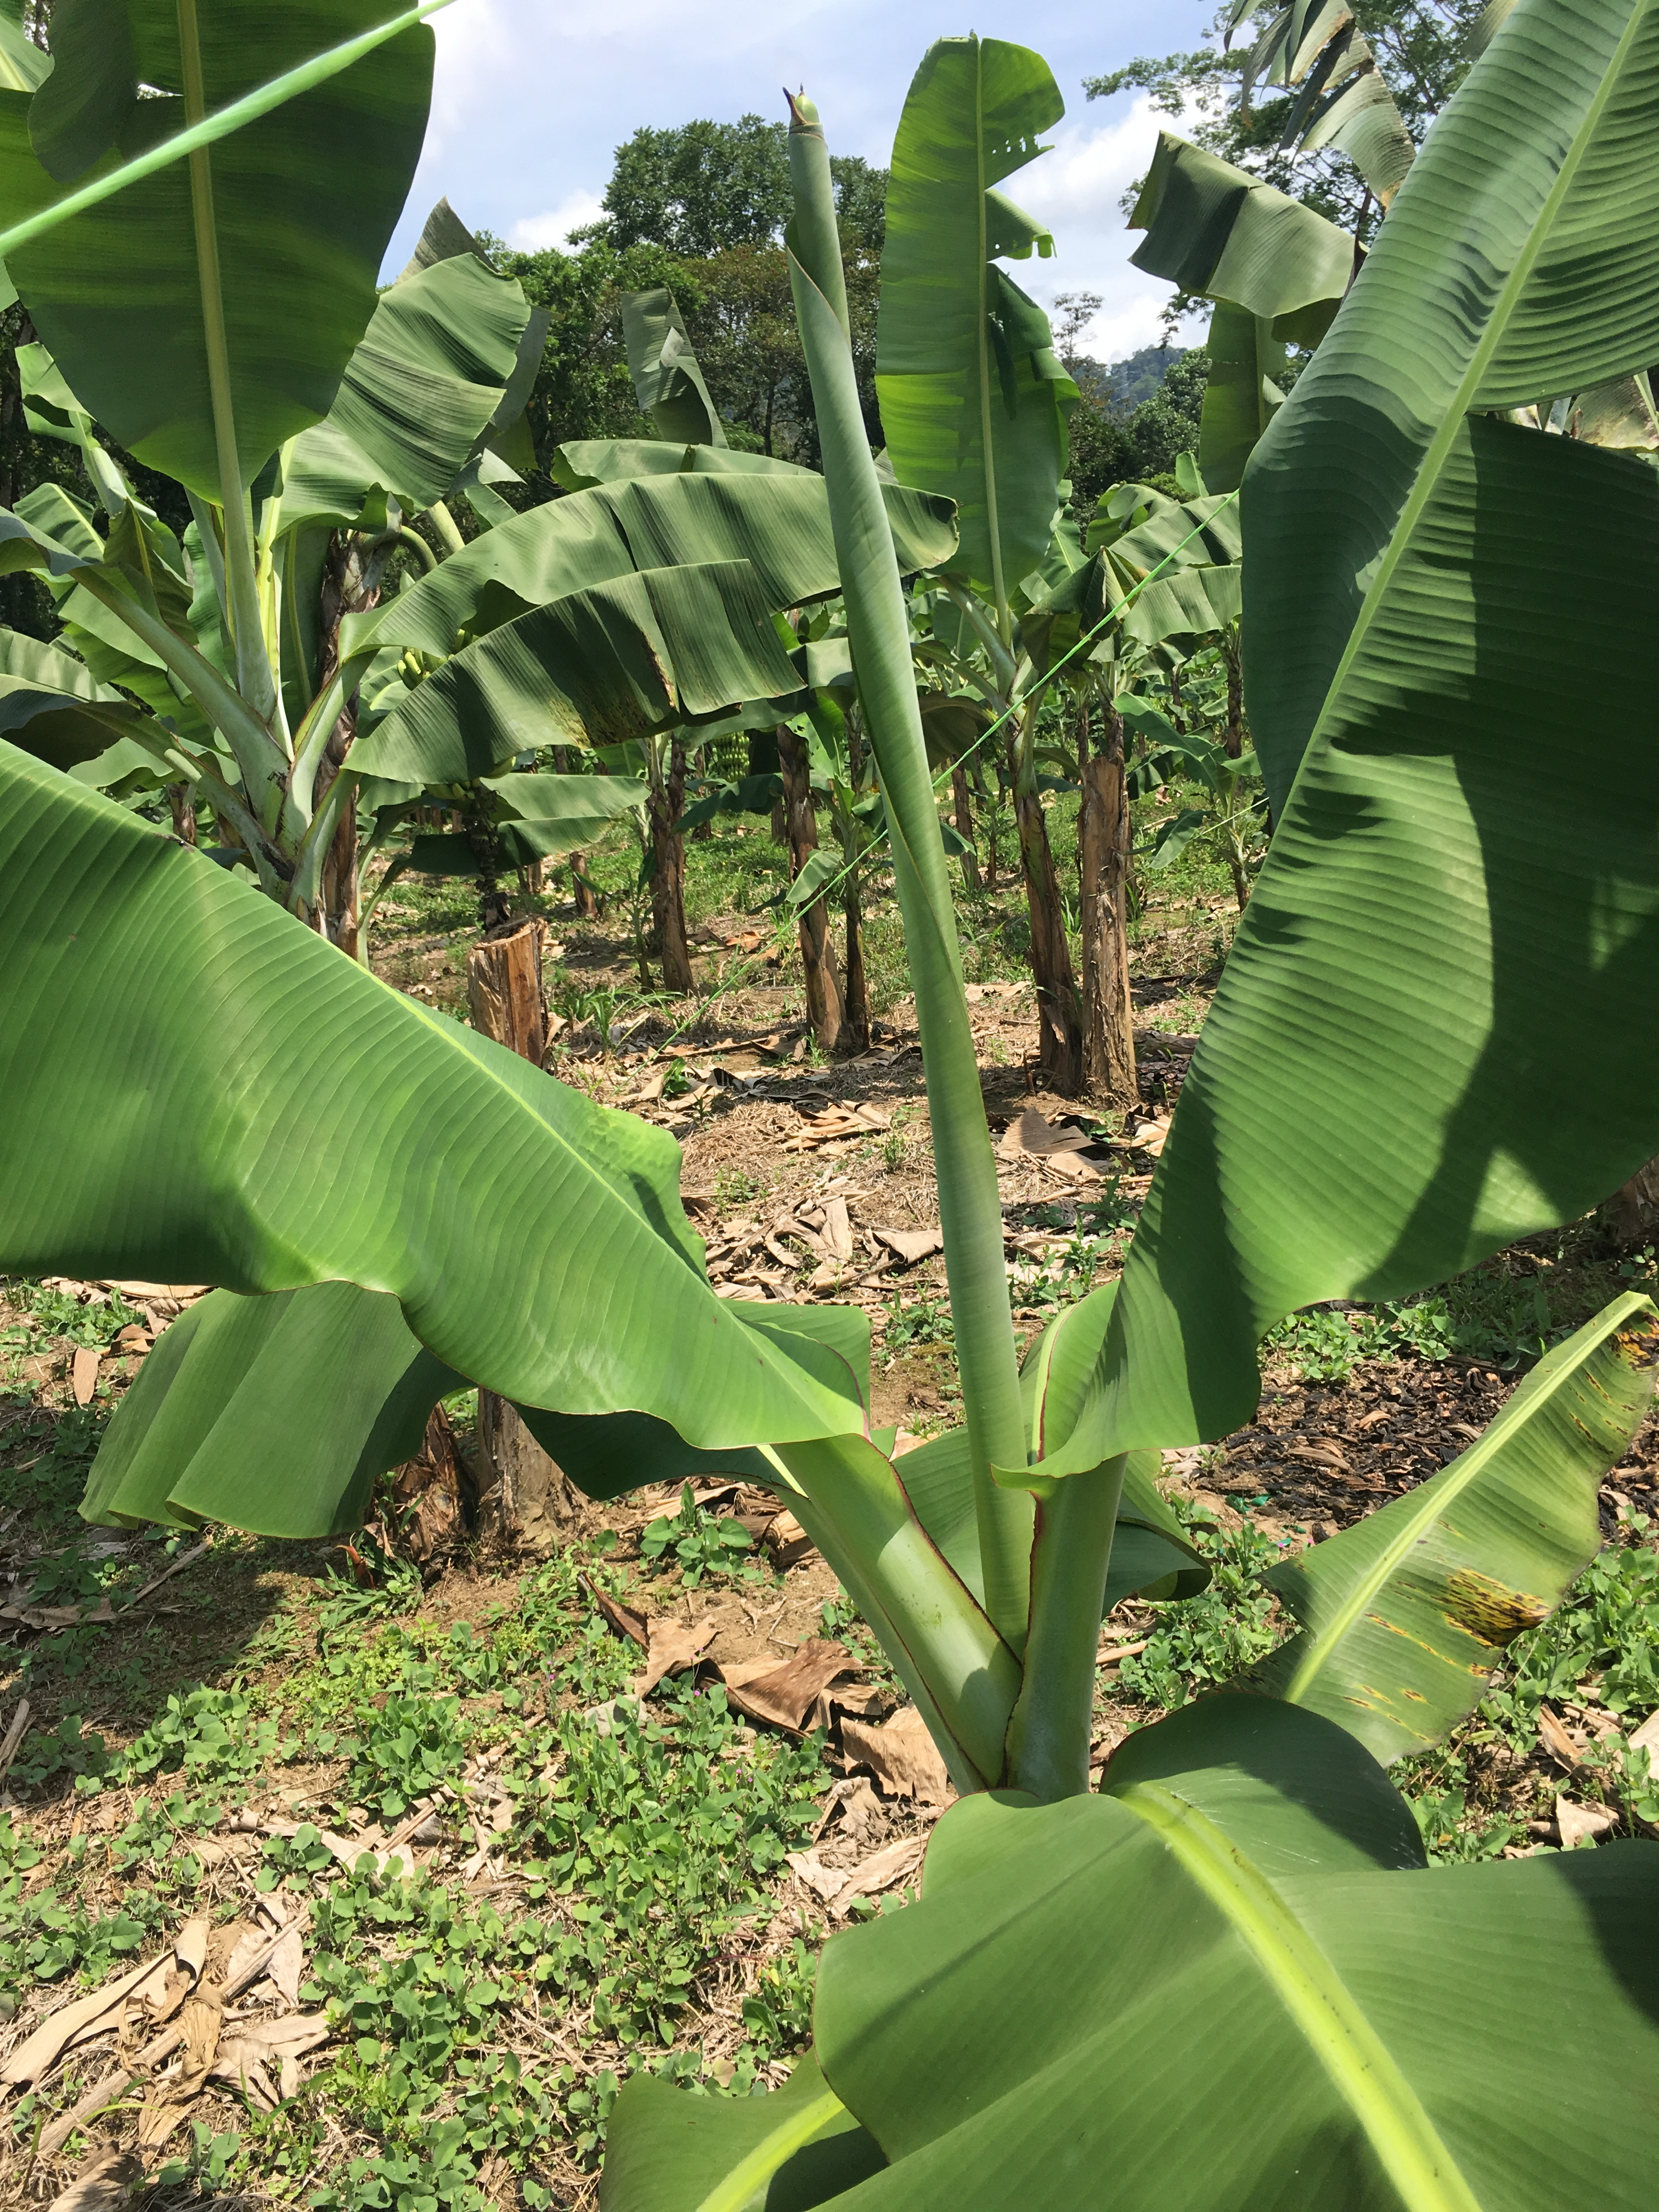candleleafs: (770, 85, 1035, 1430)
